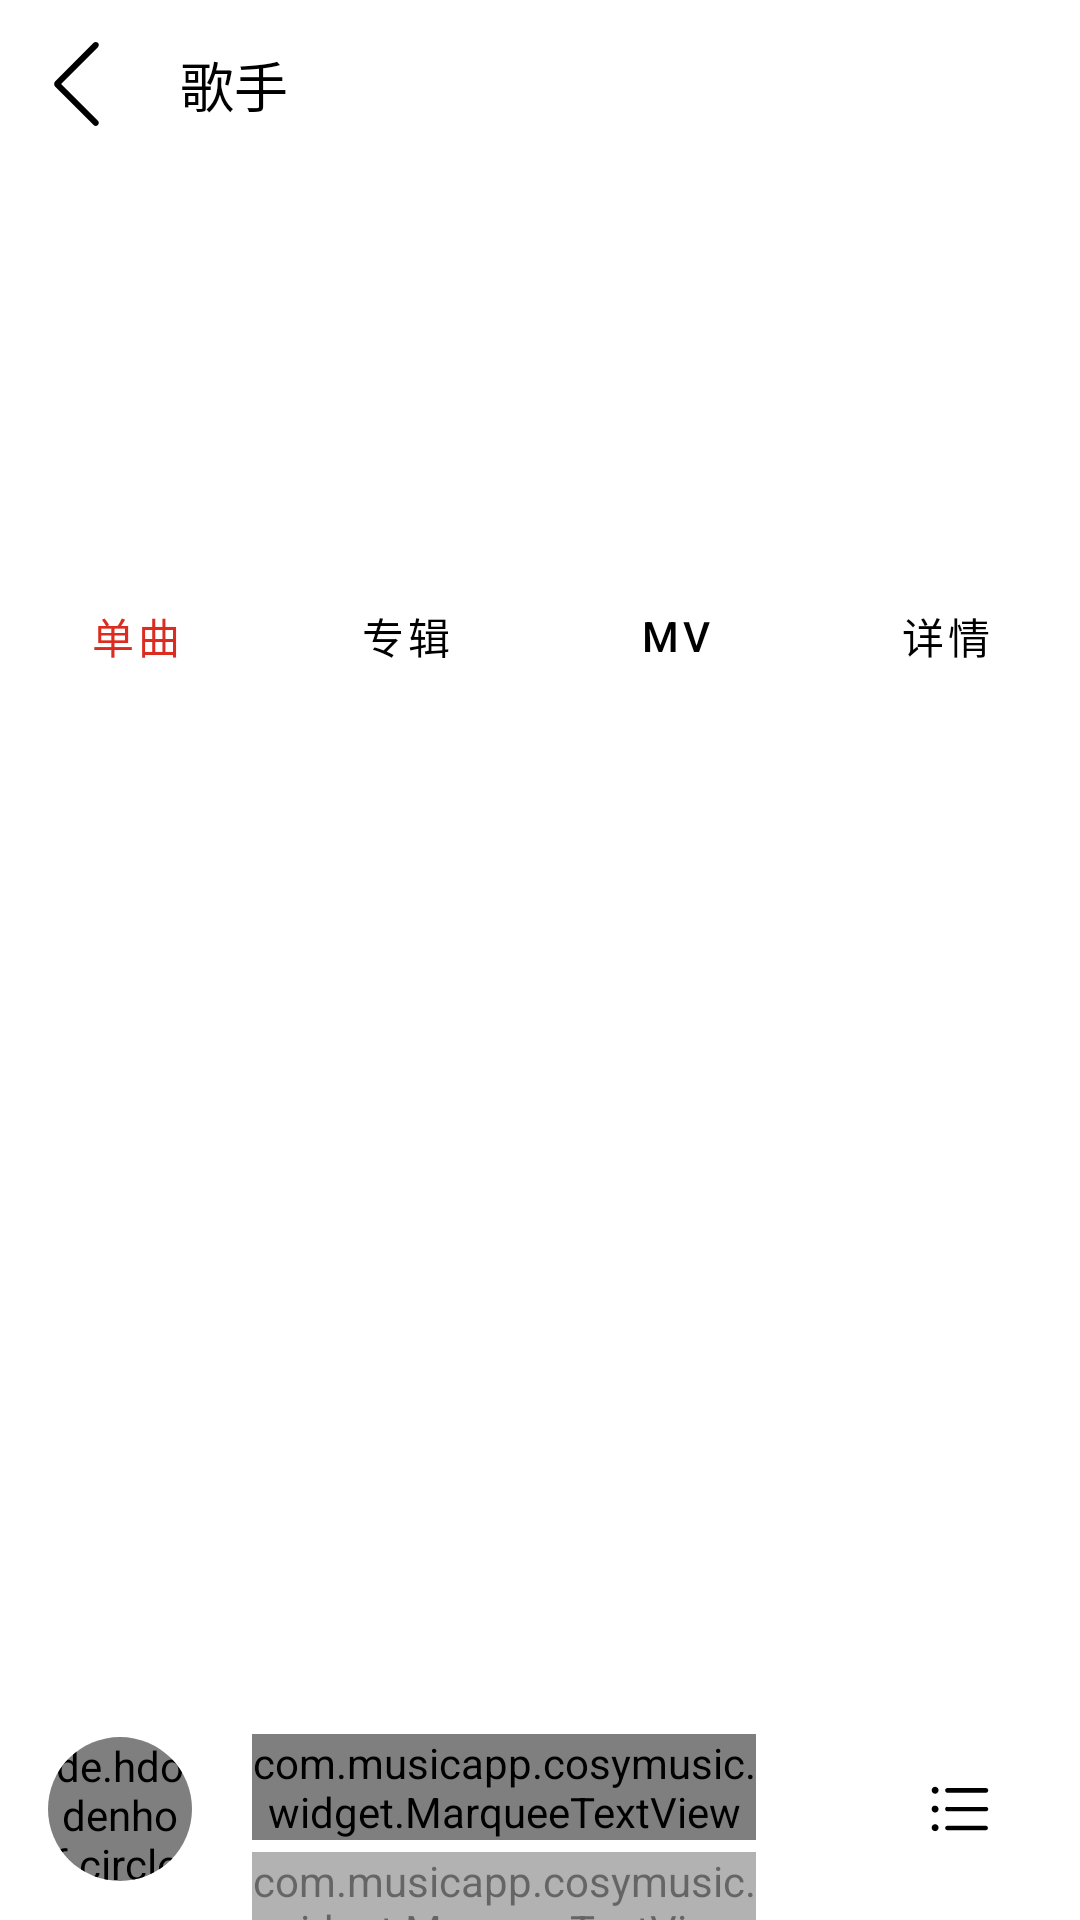

Where icons sit on this 1080px x 1920px app screen, as (x1, y1, x2, y2):
back: (54, 42, 99, 126)
player menu: (931, 1786, 989, 1831)
